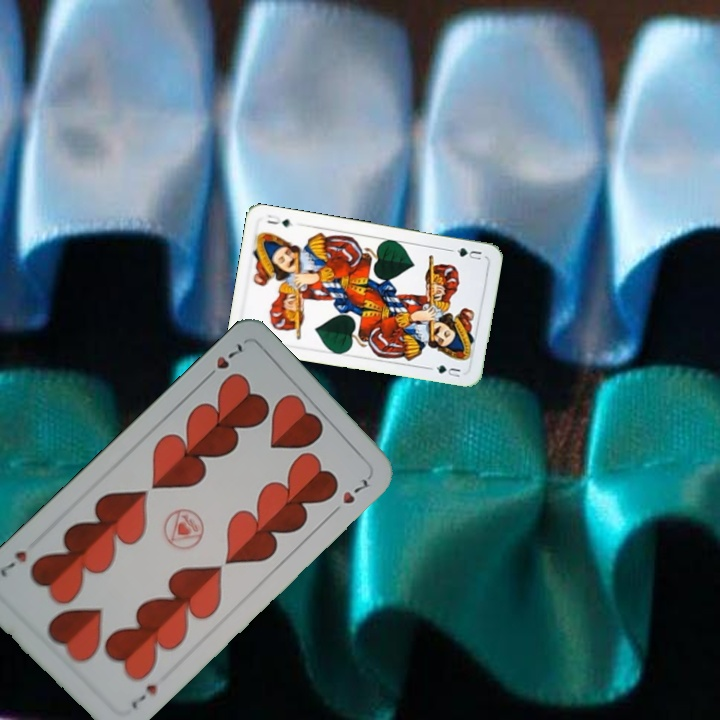GU: (446, 244, 484, 263)
H7: (200, 339, 245, 384), (127, 680, 160, 712)
